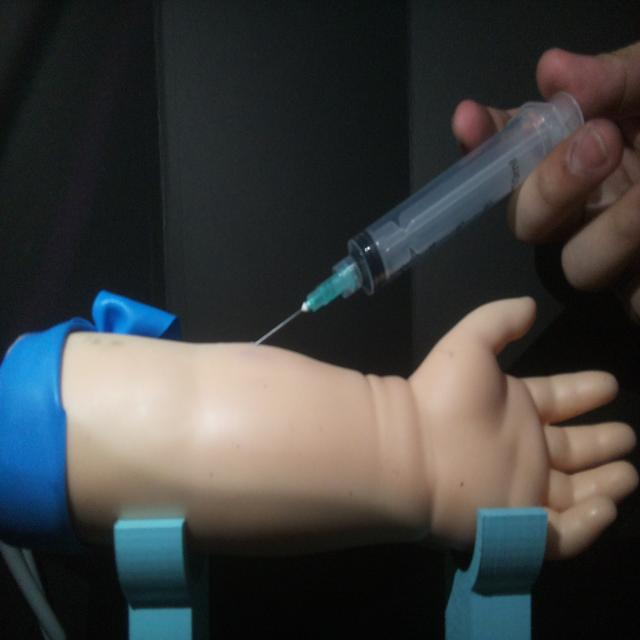27deg: (248, 78, 591, 349)
